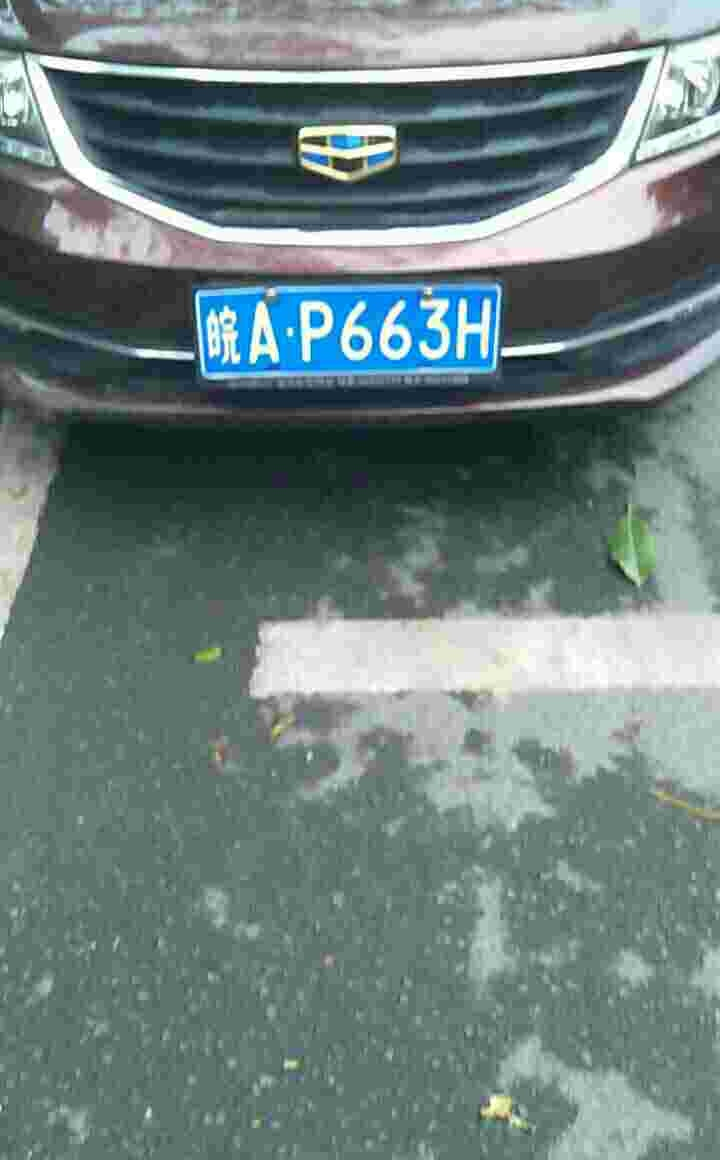license_plate: (194, 277, 514, 379)
